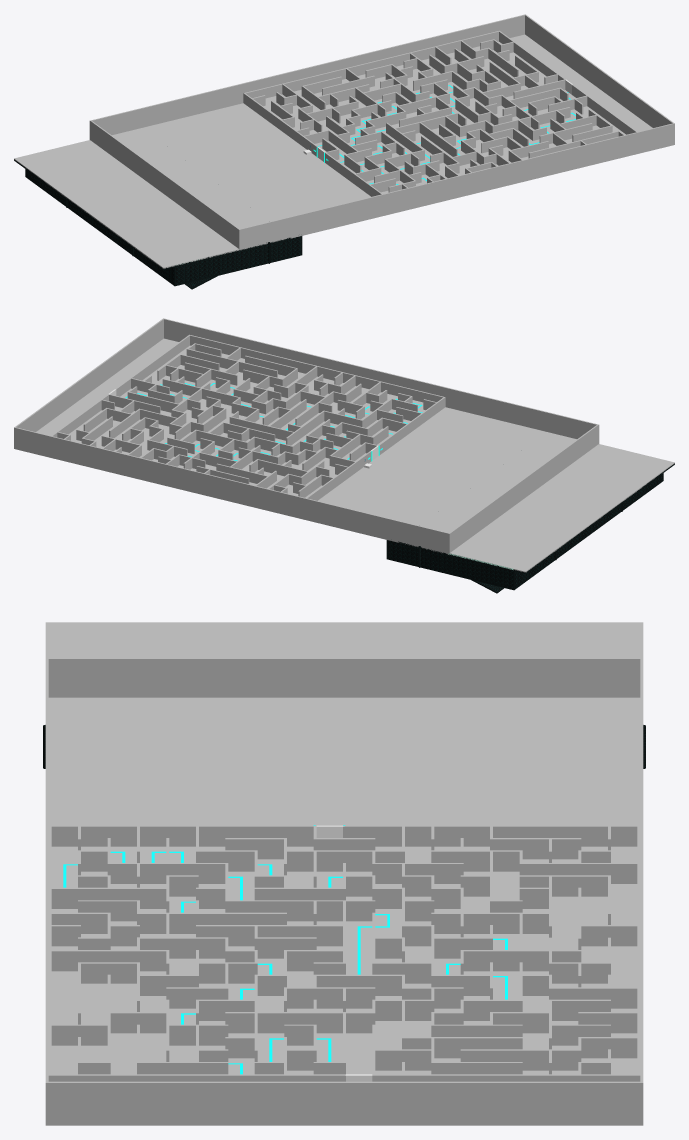
The model's file is Map.fbx.
The picture shows the model from 3 angles, top to bottom: view 1: azimuth 30°, elevation 25°; view 2: azimuth 150°, elevation 25°; view 3: azimuth 270°, elevation 25°; orthographic projection. The views are drawn at different scales.
Parts seen in each view (by area): view 1: Ground, FakeGround, MapBoundary__1_, MapBoundary__2_, MapBoundary__4_, MapBoundary__3_, MapBoundary__11_, Wall__1_, MapBoundary__7_, Wall__3_, Wall__4_, Wall__36_ (+12 smaller); view 2: Ground, FakeGround, MapBoundary__2_, MapBoundary__1_, MapBoundary__4_, MapBoundary__3_, MapBoundary__10_, Wall__0_, MapBoundary__7_, Wall__4_, Wall__2_, Wall__13_ (+11 smaller); view 3: Ground, FakeGround, MapBoundary__3_, MapBoundary__4_, Wall__3_, Wall__2_, Wall__162_, Wall__123_, Wall__128_, Wall__127_, Wall__4_, Wall__131_ (+54 smaller).
Part boxes in pixels (x1,y1,x2,y2): Ground: (143, 34, 673, 237); FakeGround: (14, 128, 289, 268); MapBoundary__1_: (238, 123, 673, 250); MapBoundary__2_: (89, 14, 524, 140); MapBoundary__4_: (90, 121, 240, 247); MapBoundary__3_: (524, 14, 674, 144); MapBoundary__11_: (174, 236, 302, 285); Wall__1_: (244, 30, 499, 98); MapBoundary__7_: (25, 169, 175, 285); Wall__3_: (243, 93, 318, 156); Wall__4_: (572, 84, 637, 134); Wall__36_: (492, 107, 570, 132); Ground: (15, 338, 545, 541); FakeGround: (399, 432, 674, 572); MapBoundary__2_: (15, 427, 450, 554); MapBoundary__1_: (164, 318, 599, 444); MapBoundary__4_: (448, 425, 598, 554); MapBoundary__3_: (14, 318, 164, 448); MapBoundary__10_: (386, 540, 514, 589); Wall__0_: (189, 335, 444, 402); MapBoundary__7_: (513, 473, 663, 588); Wall__4_: (115, 335, 189, 396); Wall__2_: (378, 397, 445, 454); Wall__13_: (186, 348, 277, 377); Ground: (48, 746, 640, 1074); FakeGround: (45, 622, 643, 746); MapBoundary__3_: (45, 1081, 643, 1125); MapBoundary__4_: (48, 657, 642, 697); Wall__3_: (343, 825, 639, 846); Wall__2_: (49, 825, 316, 846); Wall__162_: (225, 1012, 375, 1033); Wall__123_: (225, 900, 375, 921); Wall__128_: (431, 912, 548, 933); Wall__127_: (137, 912, 286, 933); Wall__4_: (48, 1074, 345, 1081); Wall__131_: (196, 925, 344, 946).
Bounding box in the file's own units: 40150 × 3617 × 20491.
